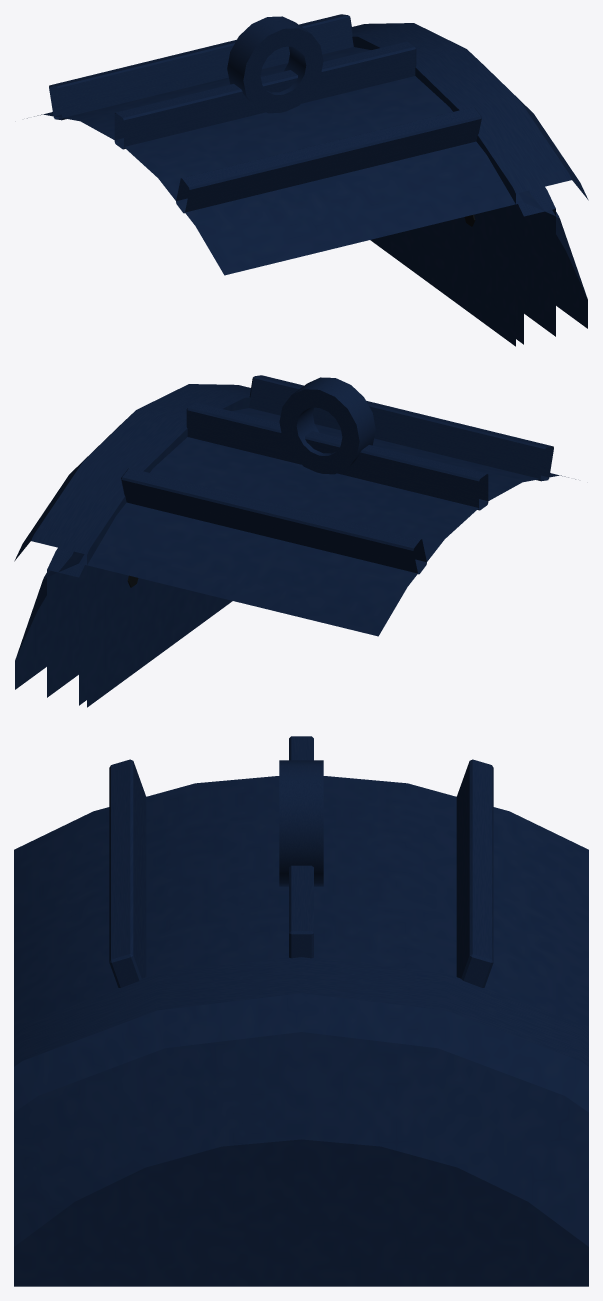
Rendered from cell_62.obj.
The picture shows the model from 3 angles, top to bottom: view 1: azimuth 30°, elevation 25°; view 2: azimuth 150°, elevation 25°; view 3: azimuth 270°, elevation 25°; orthographic projection. The views are drawn at different scales.
Visible parts, largest first — view 1: cell_62; view 2: cell_62; view 3: cell_62.
Boxes of the visible parts, x1,y1,x2,y2 form: cell_62: [27, 14, 588, 346]; cell_62: [14, 375, 575, 707]; cell_62: [14, 736, 588, 1286].
Size of the model in its own units: 1 by 0.7335 by 1.
